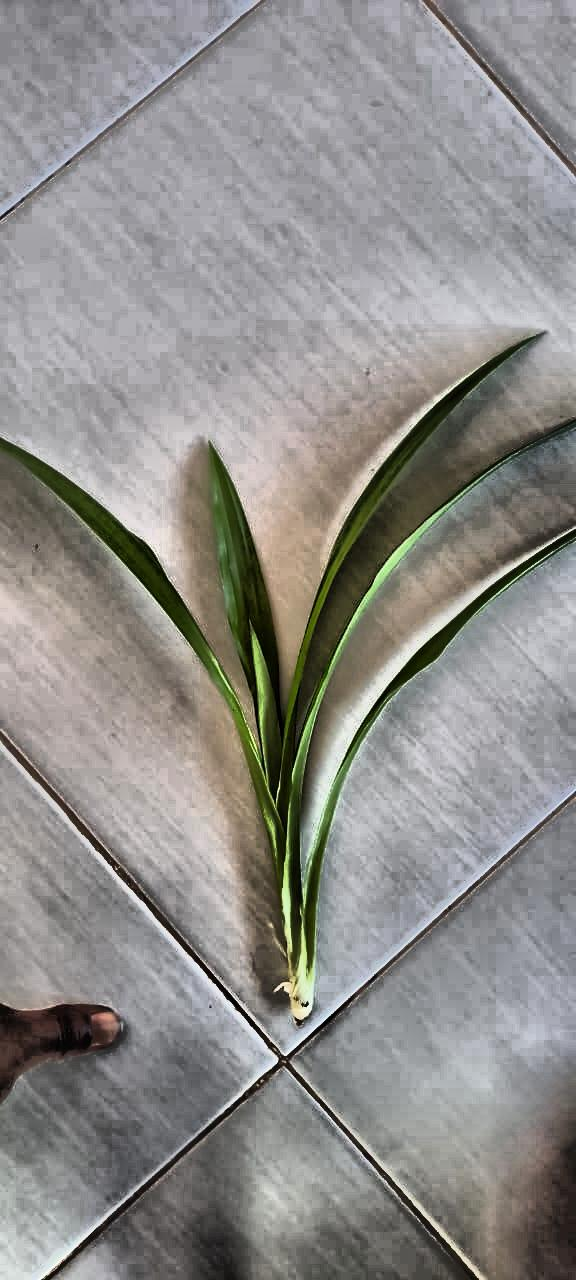daun pandan: (2, 338, 575, 1023)
